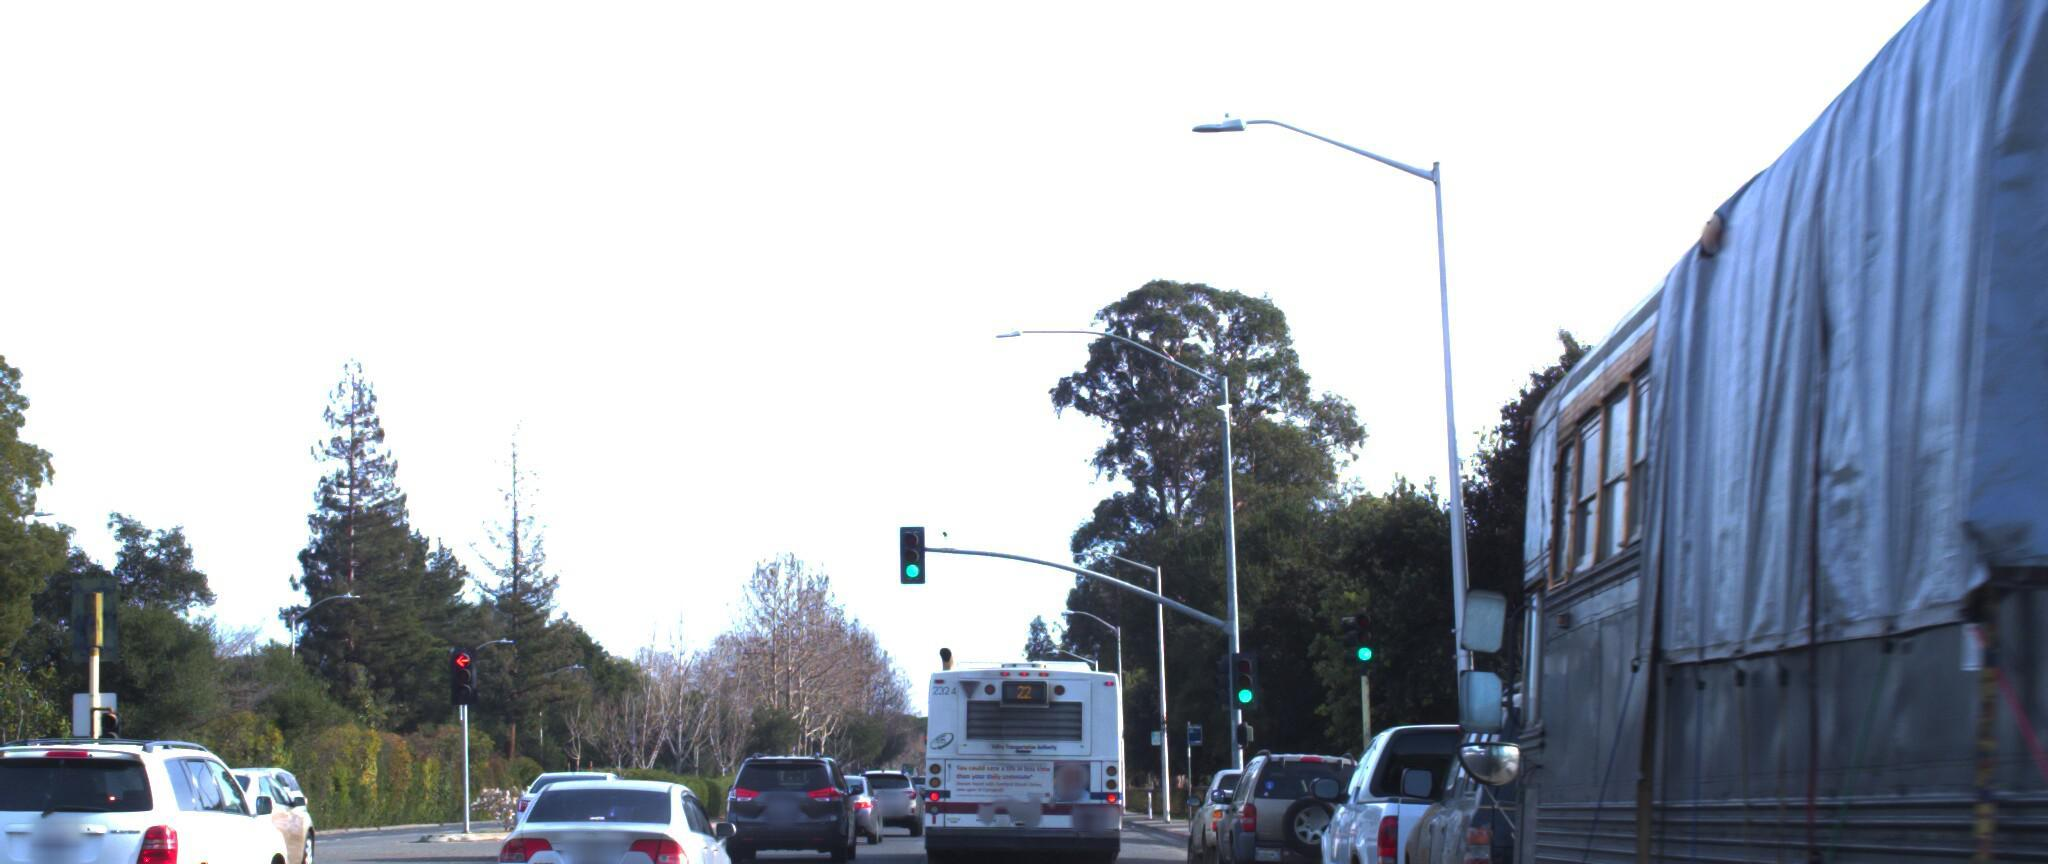bus: (1430, 0, 2048, 864), (910, 619, 1140, 864)
car: (1368, 642, 1860, 864), (1304, 696, 1663, 864), (0, 737, 307, 864), (472, 757, 744, 864), (1208, 727, 1390, 864), (115, 749, 330, 864), (1179, 747, 1340, 864), (731, 733, 862, 850), (0, 743, 44, 864), (869, 760, 953, 821)
